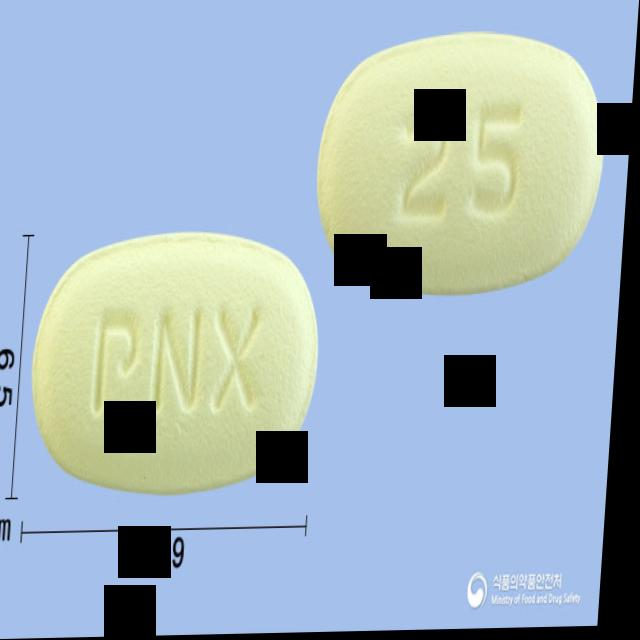Piclo Tab: (313, 31, 616, 301), (32, 233, 330, 494)
